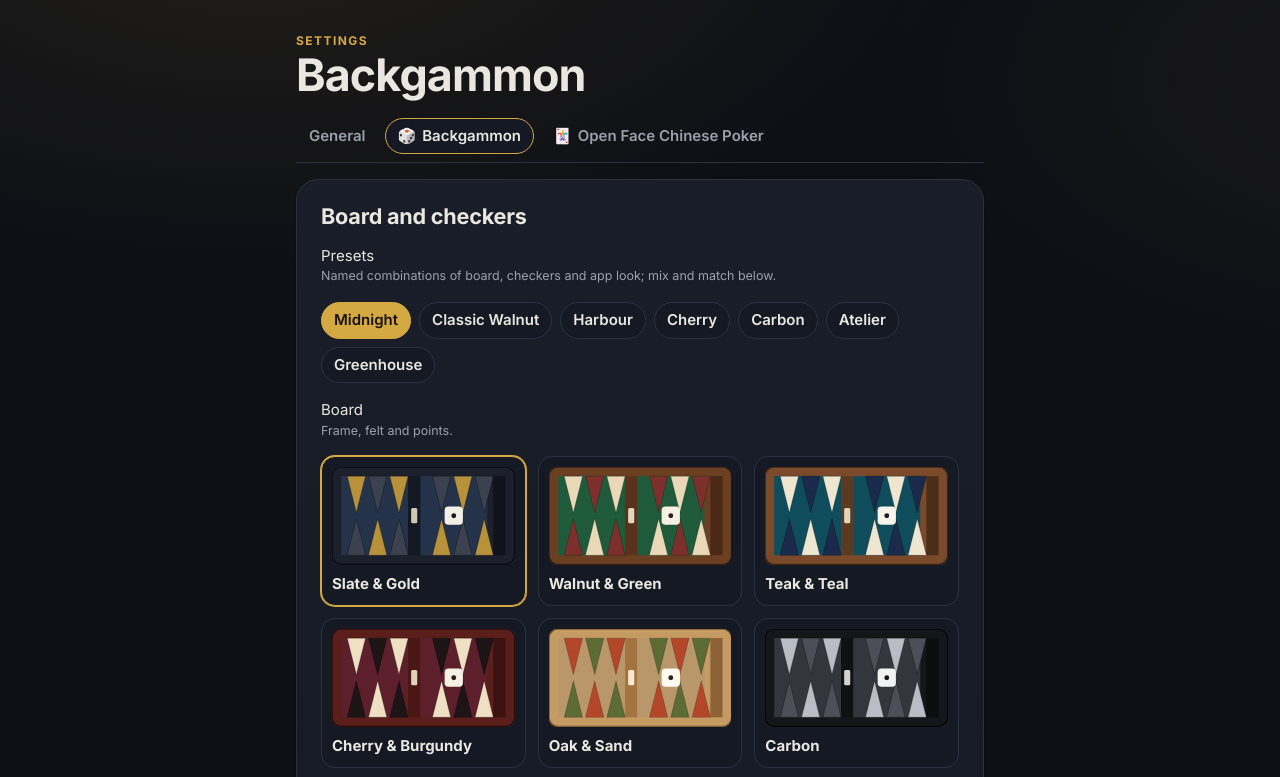
Test: SettingsScreen transfer › exports the player as a JSON download
Click the radio button with test id "board-marine": (857,531) [754,456,959,606]
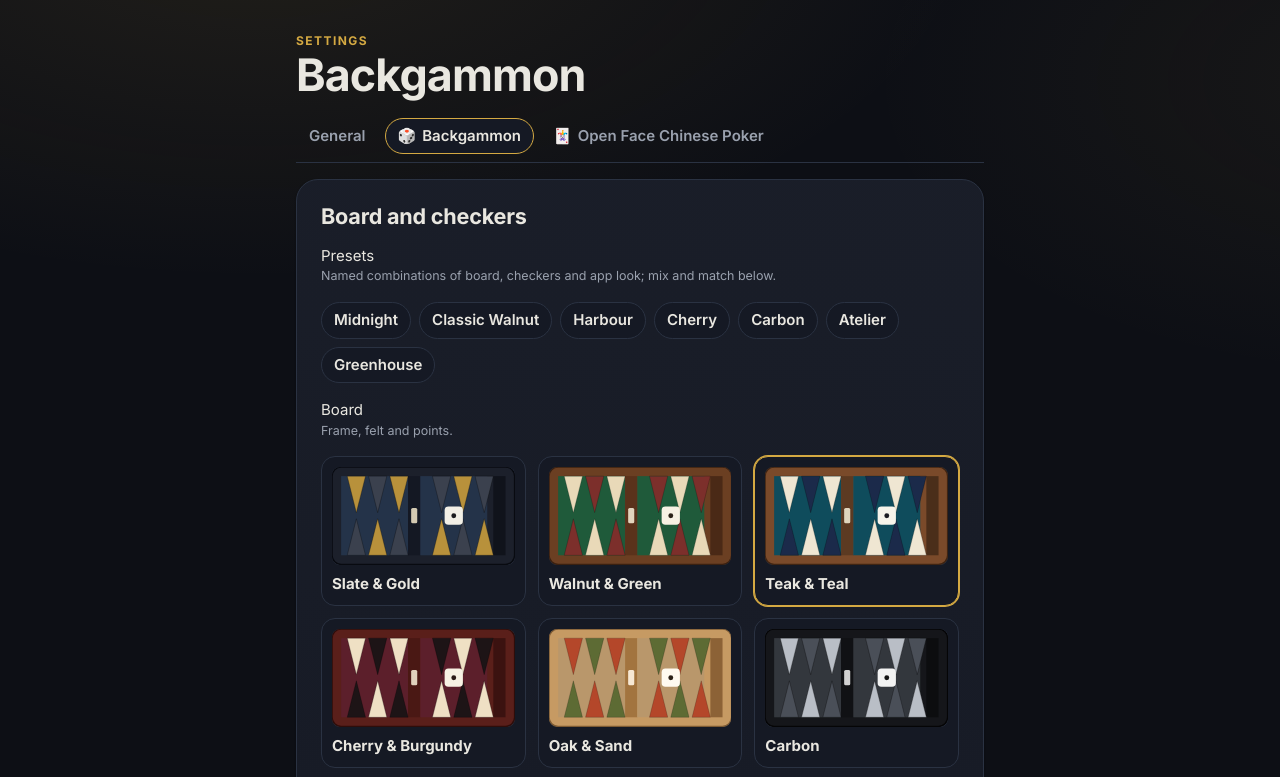
Click the link with test id "settings-tab-general": (337,135) [309,126,366,144]
(page scrolled)
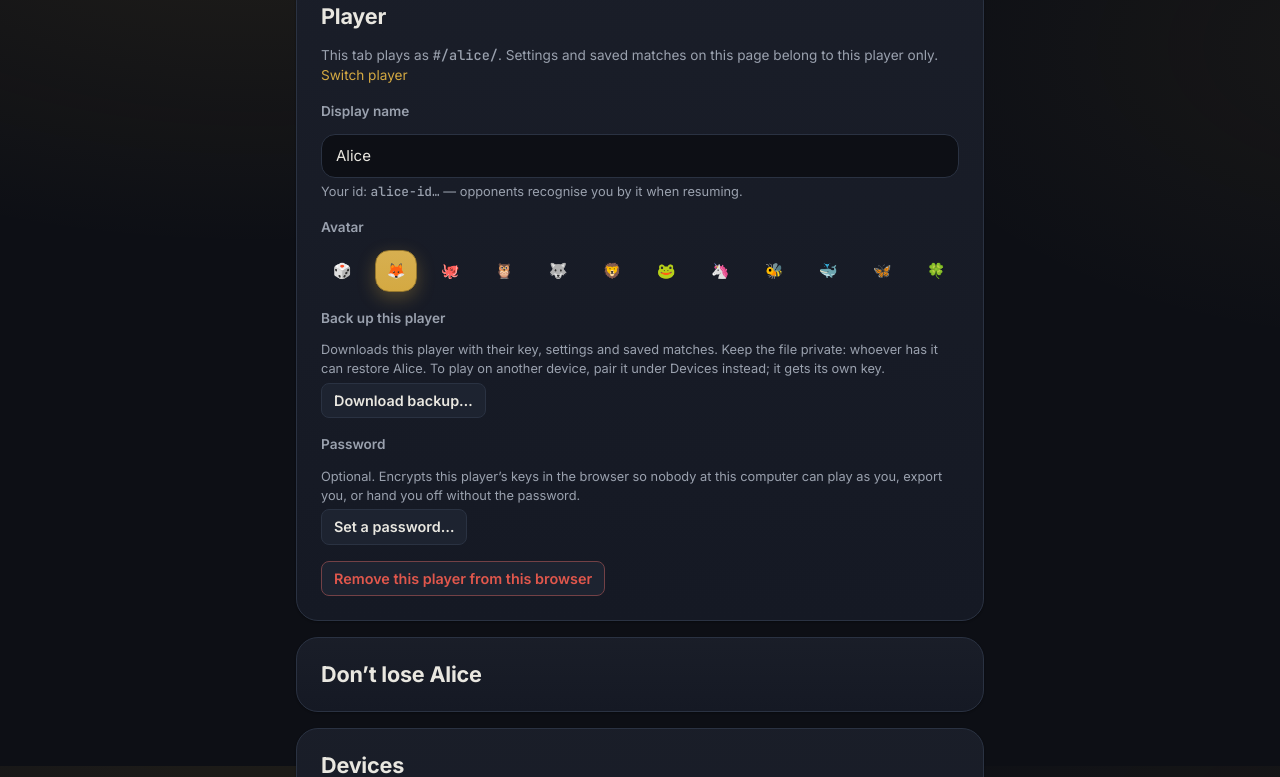
Click the button with test id "export-profile": (403,400) [321,382,486,418]
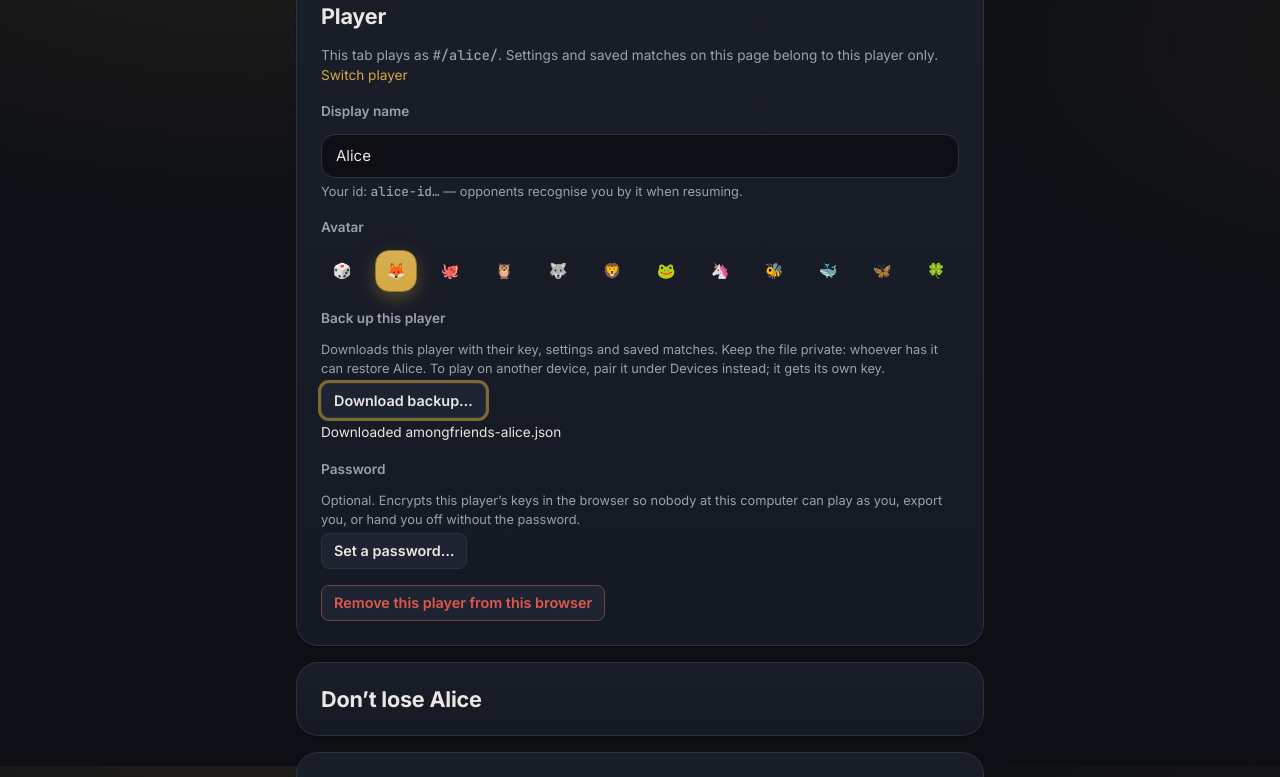
Expected: the message with test id "transfer-note" shows "amongfriends-alice.json", [321,424,561,440]
